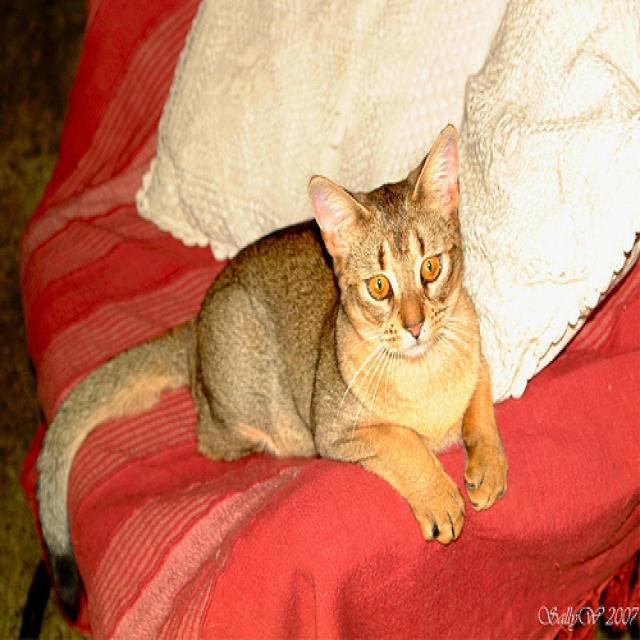Abyssinian: (307, 122, 462, 356)
